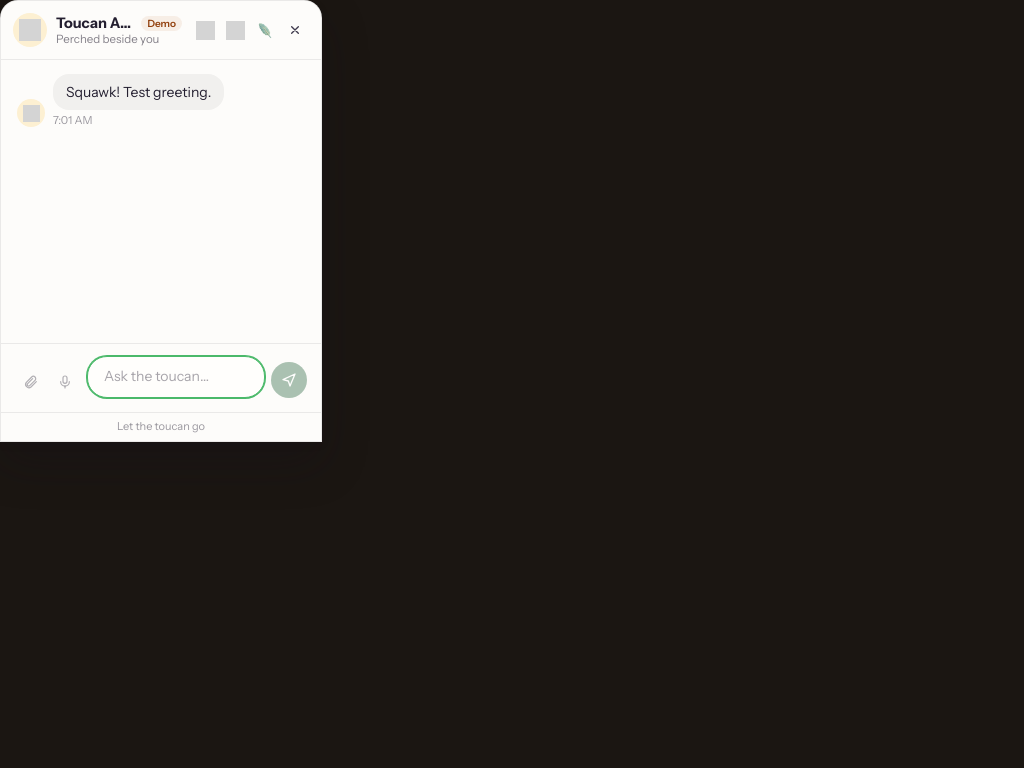
Test: Toucan T9 production polish › memory controls › lists saved memories with their kind
This screenshot has width=1024, height=768.
Click the button named "What the toucan remembers" at (235, 30), box [221,16,249,44]
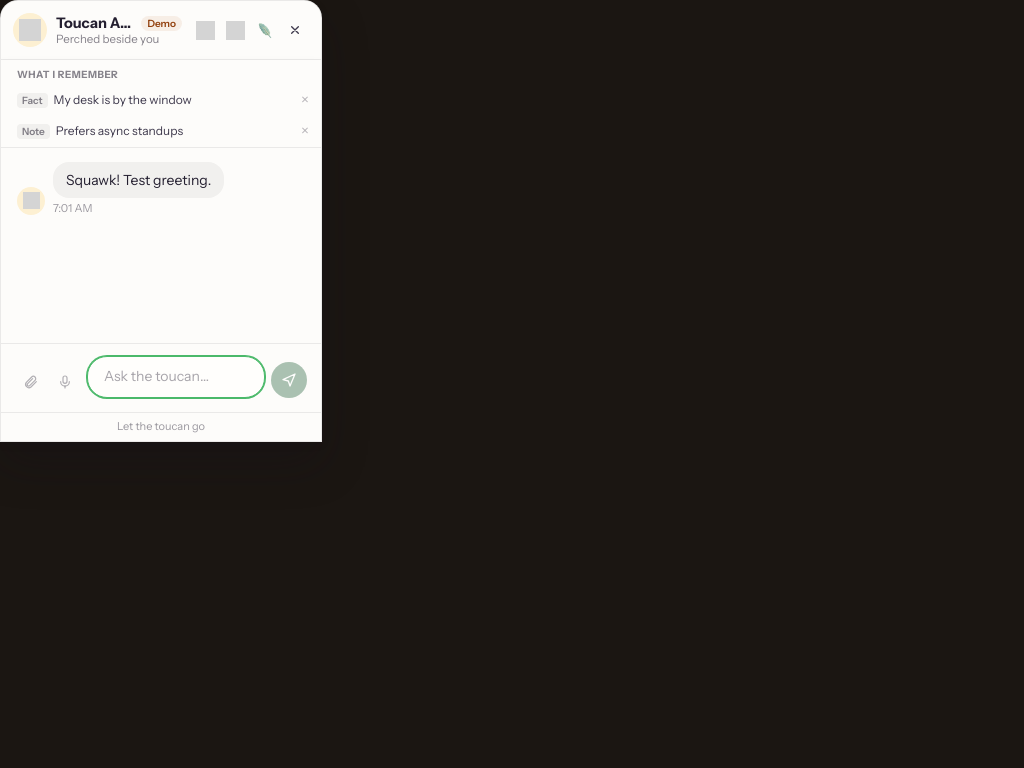
Expected: the text "My desk is by the window" is shown, [54,92,192,107]
Expected: the text "Fact" is shown, [17,93,48,108]
Expected: the text "Note" is shown, [17,124,50,139]
